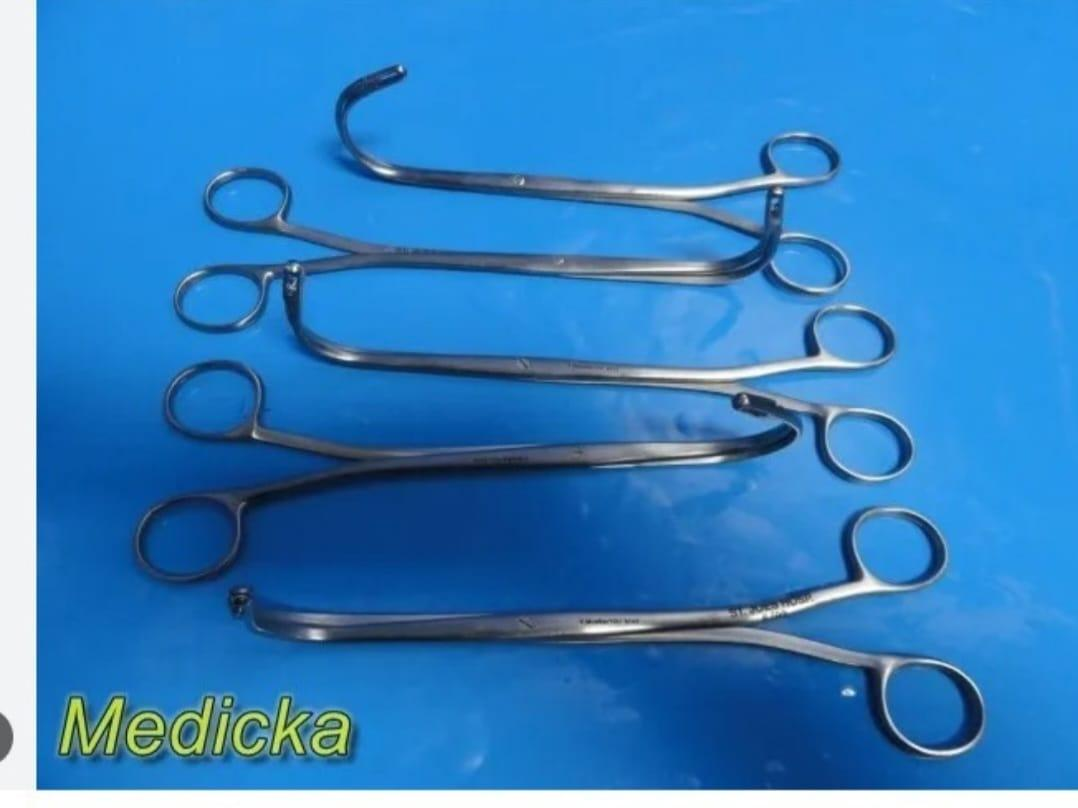Randall: (93, 335, 813, 581), (273, 260, 941, 472), (178, 139, 818, 341), (308, 55, 881, 278)
